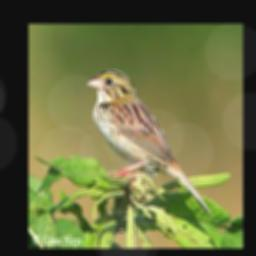Sparrow: (84, 67, 214, 219)
